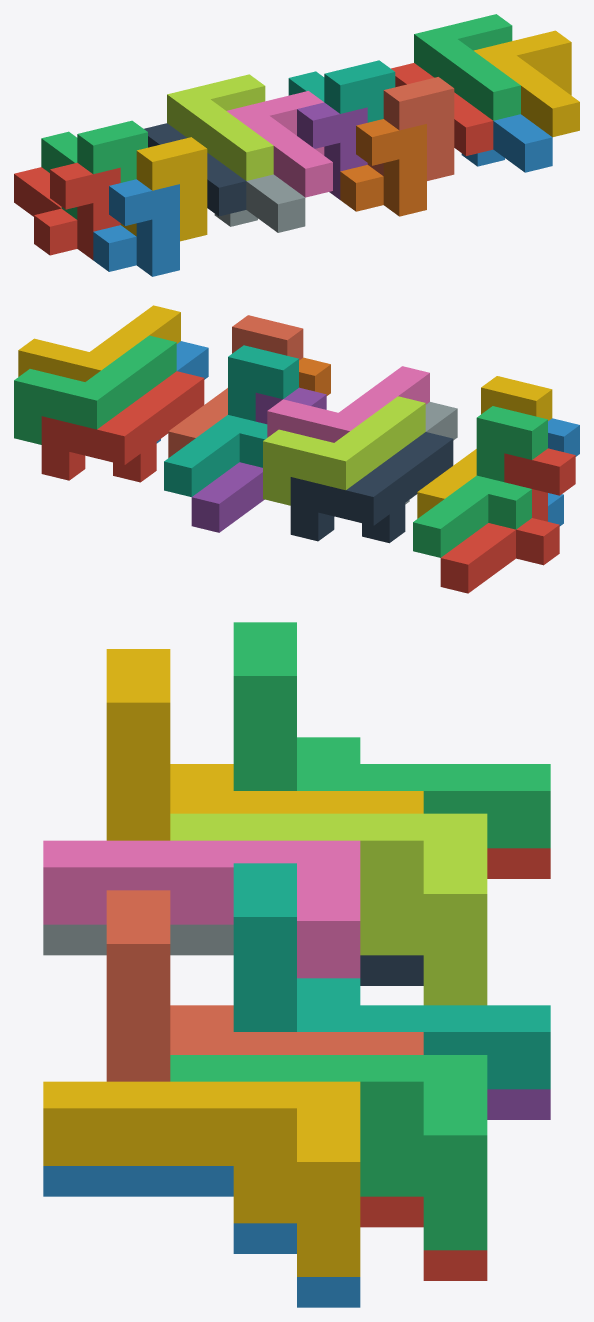
Rendered from tiling.obj.
3 renders of one model, top to bottom at view 1: azimuth 30°, elevation 25°; view 2: azimuth 150°, elevation 25°; view 3: azimuth 270°, elevation 25°, orthographic. The views are drawn at different scales.
Visible parts, largest first — view 1: copy_1_domain_1, copy_2_domain_7, copy_2_domain_3, copy_1_domain_6, copy_1_domain_2, copy_2_domain_8, copy_2_domain_4, copy_1_domain_4, copy_1_domain_8, copy_1_domain_3, copy_1_domain_7, copy_1_domain_5 (+4 smaller); view 2: copy_1_domain_3, copy_2_domain_1, copy_2_domain_5, copy_1_domain_7, copy_2_domain_3, copy_2_domain_7, copy_1_domain_1, copy_2_domain_4, copy_2_domain_8, copy_1_domain_5, copy_1_domain_8, copy_1_domain_4 (+4 smaller); view 3: copy_2_domain_8, copy_2_domain_3, copy_2_domain_7, copy_1_domain_3, copy_1_domain_7, copy_2_domain_4, copy_1_domain_4, copy_1_domain_8, copy_2_domain_6, copy_2_domain_2, copy_2_domain_5, copy_1_domain_1 (+2 smaller).
Boxes of the visible parts, x1,y1,x2,y2 form: copy_1_domain_1: (14,162,120,259); copy_2_domain_7: (414,14,520,120); copy_2_domain_3: (167,74,273,180); copy_1_domain_6: (340,119,426,216); copy_1_domain_2: (93,179,179,276); copy_2_domain_8: (473,30,579,137); copy_2_domain_4: (227,91,332,197); copy_1_domain_4: (120,137,207,241); copy_1_domain_8: (367,77,454,180); copy_1_domain_3: (41,120,147,219); copy_1_domain_7: (288,60,395,122); copy_1_domain_5: (297,102,367,199); copy_1_domain_3: (413,406,547,557); copy_2_domain_1: (290,432,453,543); copy_2_domain_5: (41,371,204,482); copy_1_domain_7: (164,345,298,496); copy_2_domain_3: (263,396,425,505); copy_2_domain_7: (14,335,176,444); copy_1_domain_1: (440,448,575,593); copy_2_domain_4: (267,366,429,442); copy_2_domain_8: (18,305,180,381); copy_1_domain_5: (191,387,326,532); copy_1_domain_8: (168,315,303,457); copy_1_domain_4: (417,376,552,518); copy_2_domain_8: (43,1081,360,1276); copy_2_domain_3: (170,813,487,1005); copy_2_domain_7: (170,1055,487,1250); copy_1_domain_3: (233,622,550,848); copy_1_domain_7: (233,863,550,1089); copy_2_domain_4: (43,840,360,978); copy_1_domain_4: (106,649,423,840); copy_1_domain_8: (106,890,423,1081); copy_2_domain_6: (43,1166,360,1307); copy_2_domain_2: (43,924,233,955); copy_2_domain_5: (360,1196,487,1280); copy_1_domain_1: (487,848,550,878).
Size of the model in its own units: 19 by 4 by 8.
